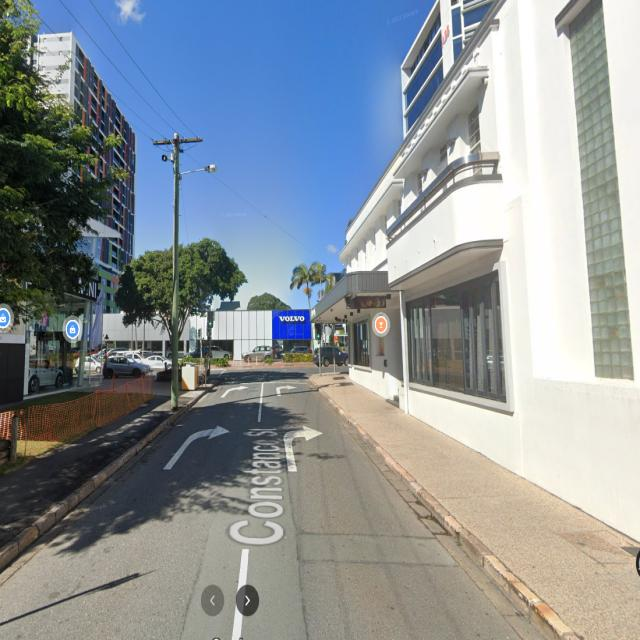crossarm: (153, 137, 203, 149)
steel-pole: (209, 328, 211, 381), (319, 341, 322, 376), (200, 328, 202, 370)
streetlight: (178, 164, 218, 174)
timber-pole: (170, 131, 180, 410)
traffic-light: (206, 310, 214, 328), (316, 323, 322, 341), (198, 329, 200, 337), (202, 339, 204, 346)
